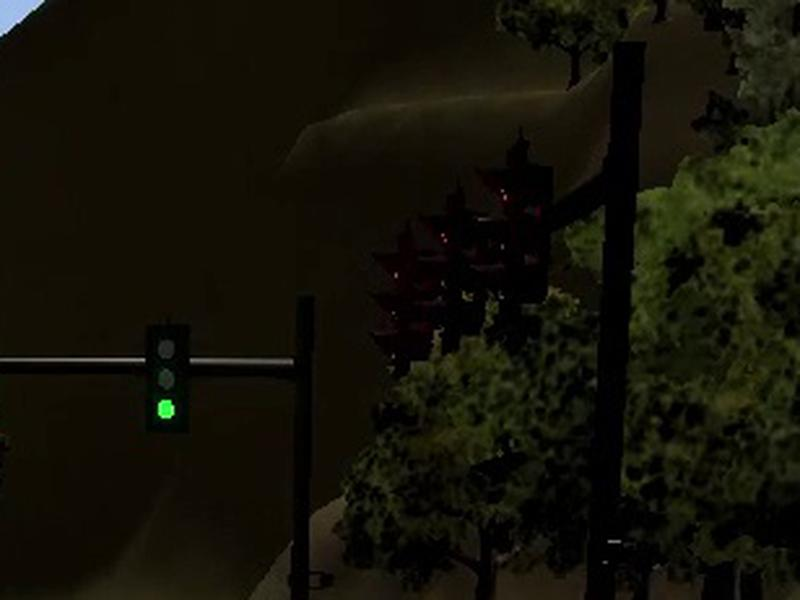Green: (143, 323, 191, 435)
